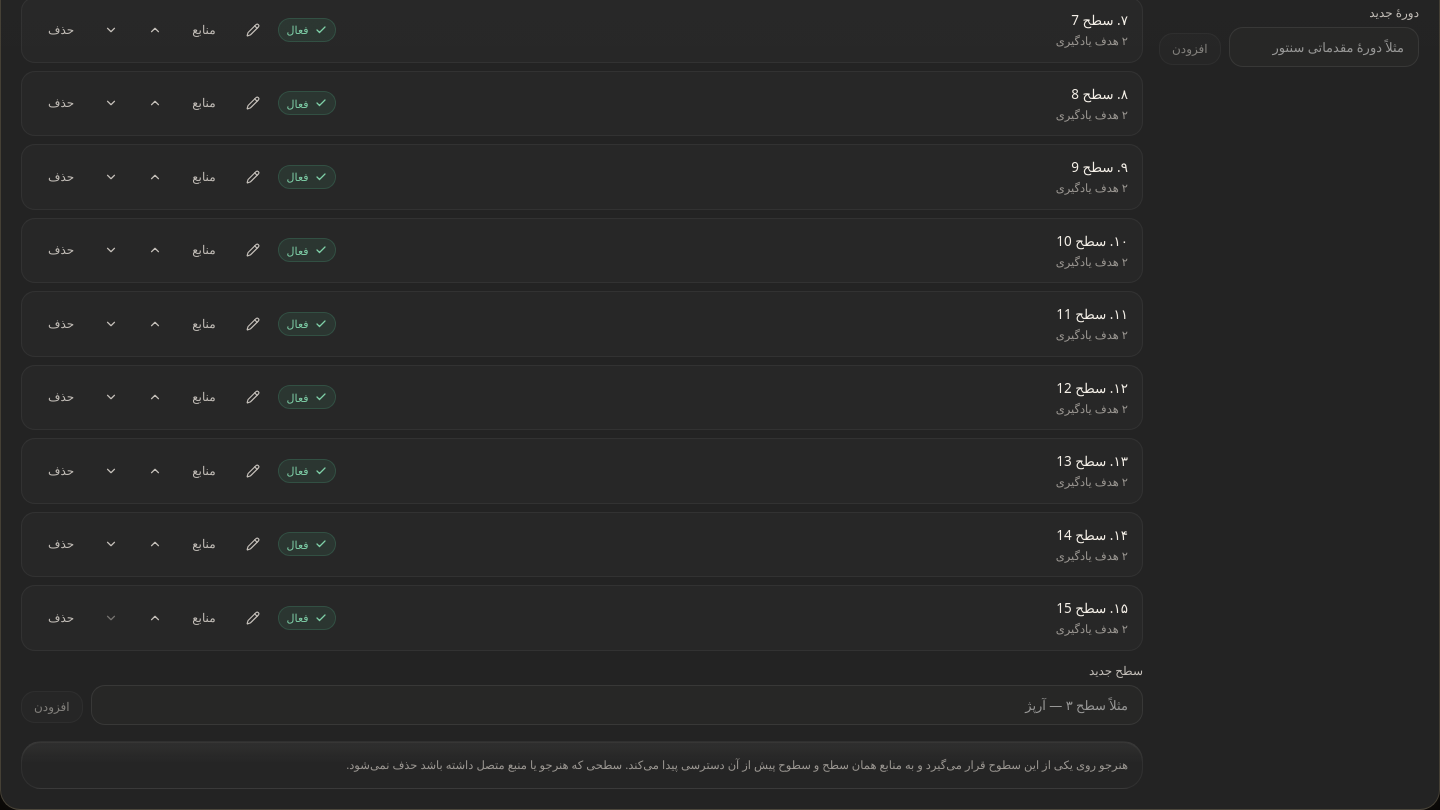
levels › adds a level at the end of the program
(page scrolled)
Type "سطح تازه" into the field labelled "سطح جدید" at (617, 705), box x1=91 y1=685 x2=1143 y2=725
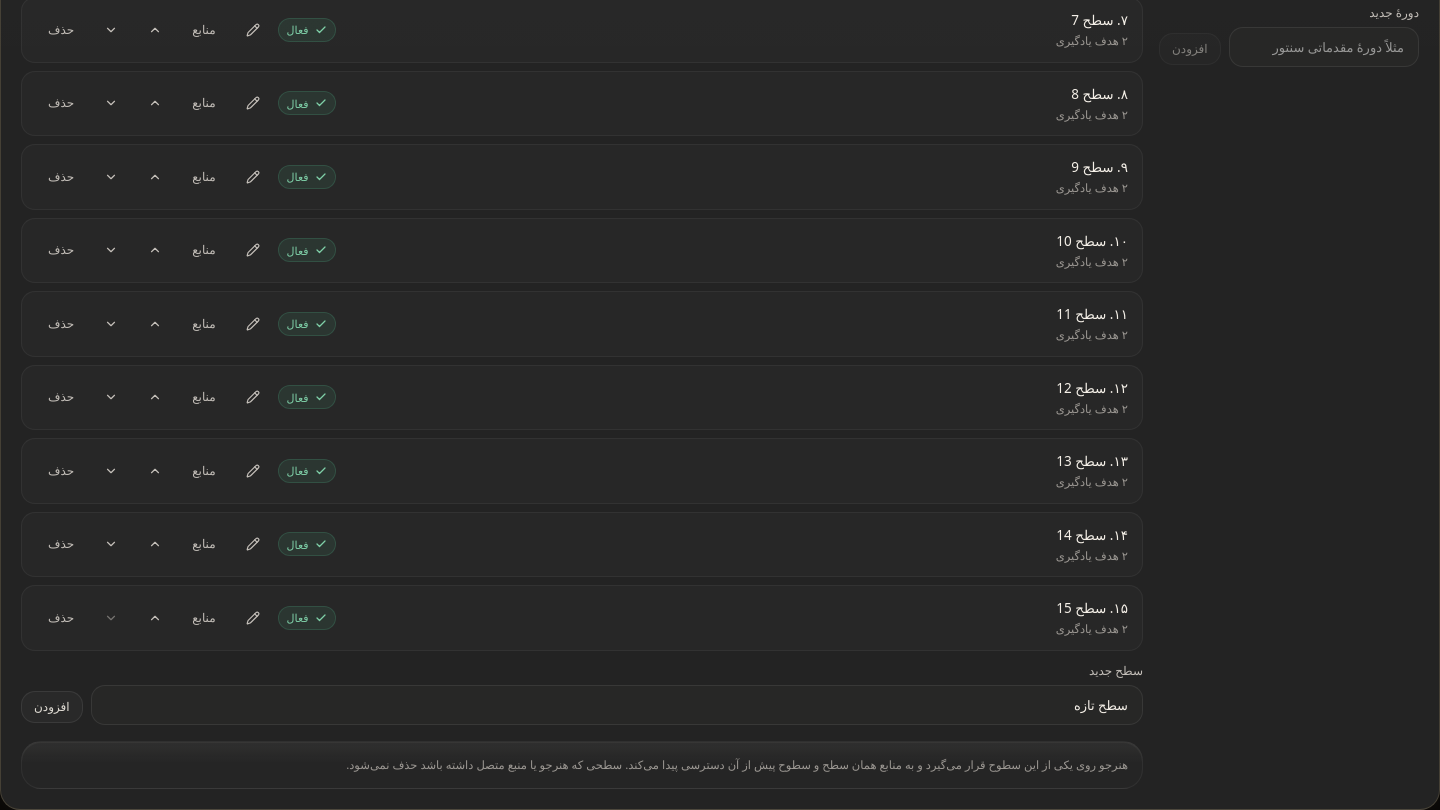
Click the 2nd button "افزودن" at (52, 707), box x1=21 y1=691 x2=83 y2=723
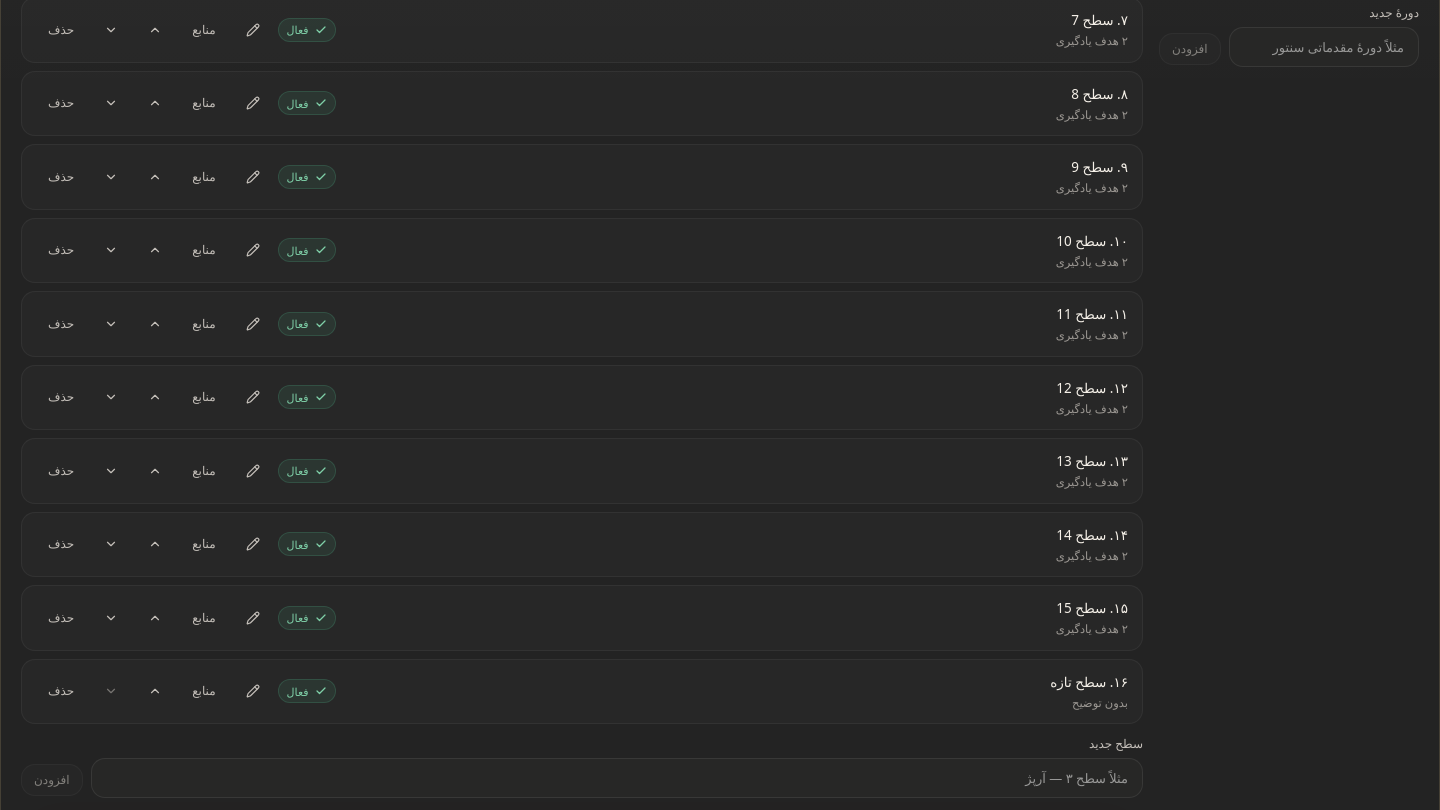
expect the text "۱۶. سطح تازه" is shown: met, box x1=1050 y1=673 x2=1128 y2=691
